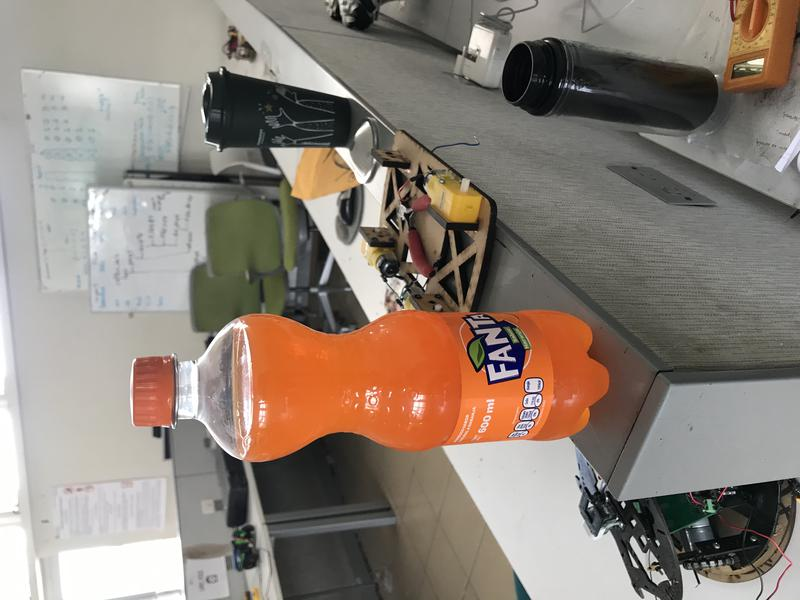fanta: (132, 310, 611, 462)
